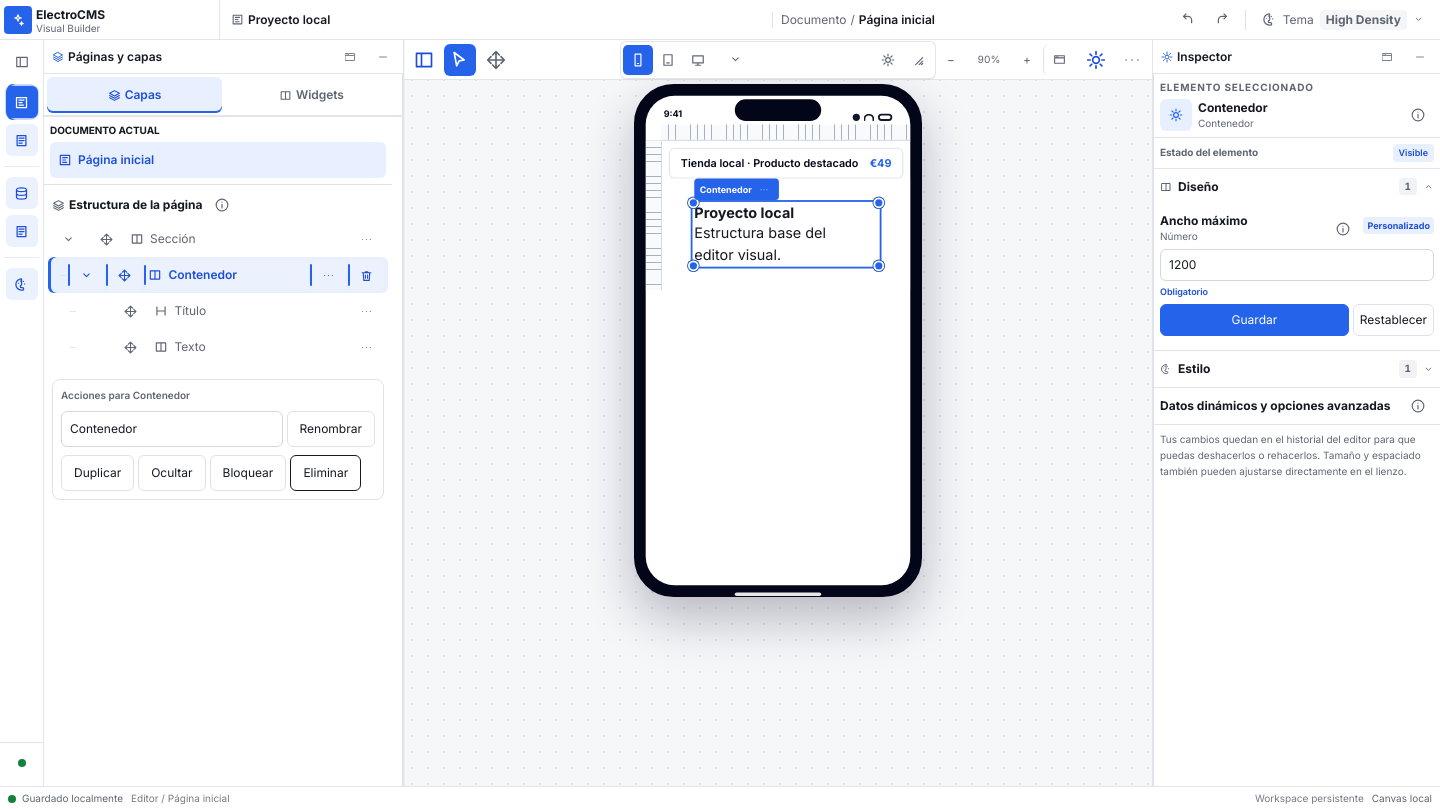
M04.5 temas del editor › ubica temas y paquetes exportables en Diseño, separados de la apariencia local
Step 1. Click the button named "Diseño" → (22, 284), box [7,266,36,302]
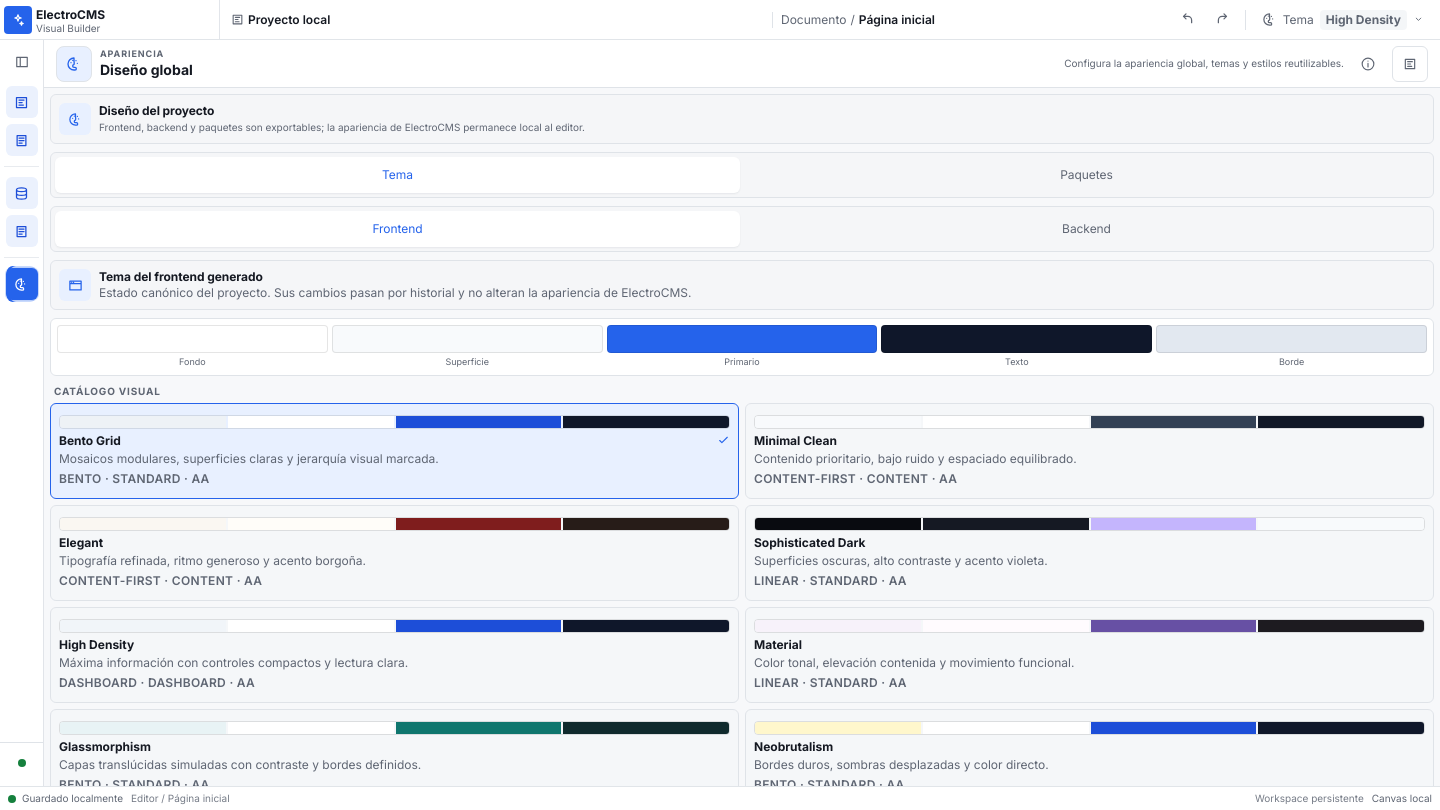
Expected: the element named "diseño global · módulo principal" is shown
Expected: the heading "Diseño del proyecto" is shown, [99,103,214,118]
Expected: the heading "Tema del frontend generado" is shown, [99,269,263,284]
Step 2. Click the tab "Paquetes" → (1086, 175), box [744,157,1429,193]
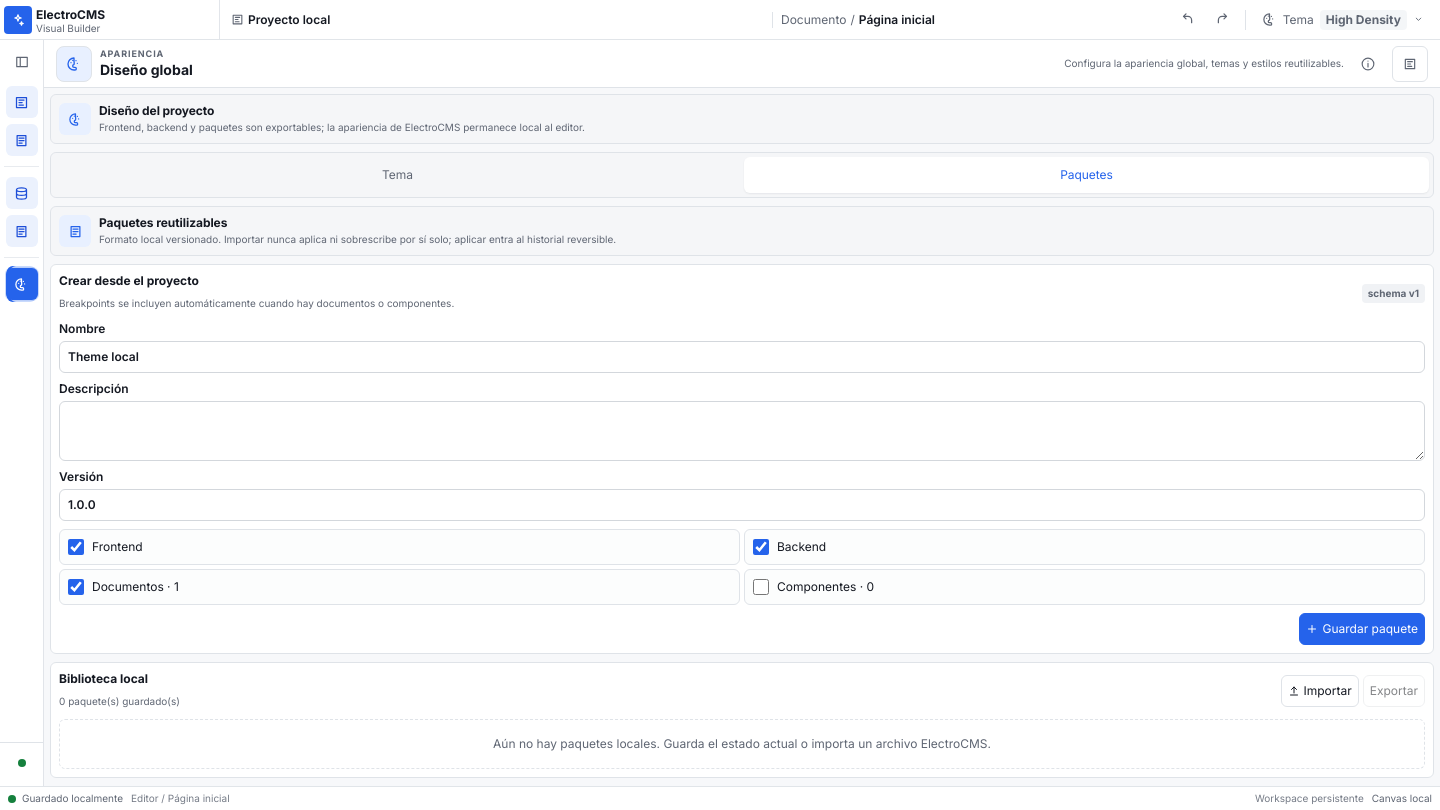
Expected: the heading "Paquetes reutilizables" is shown, [99,215,227,230]
Expected: the heading "Tema del frontend generado" is gone
